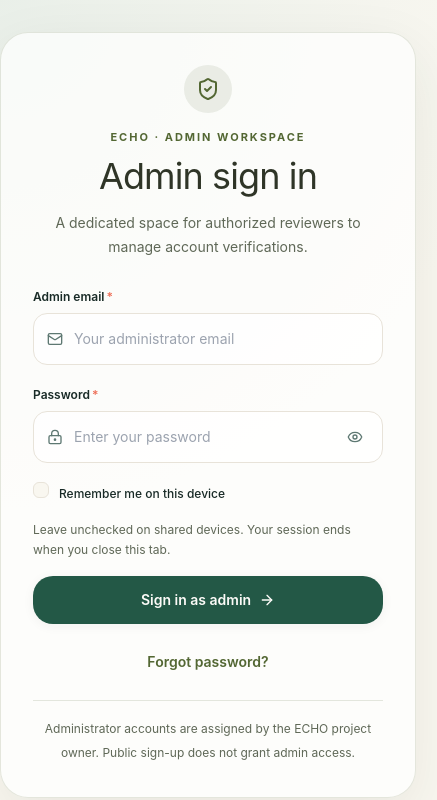
Dedicated admin sign in › checks backend permission before redirecting, without trusting a role from login
This screenshot has width=437, height=800.
Type "reviewer@example.invalid" into the field labelled "Admin email*" at x=208, y=338, box x1=33 y1=312 x2=383 y2=364
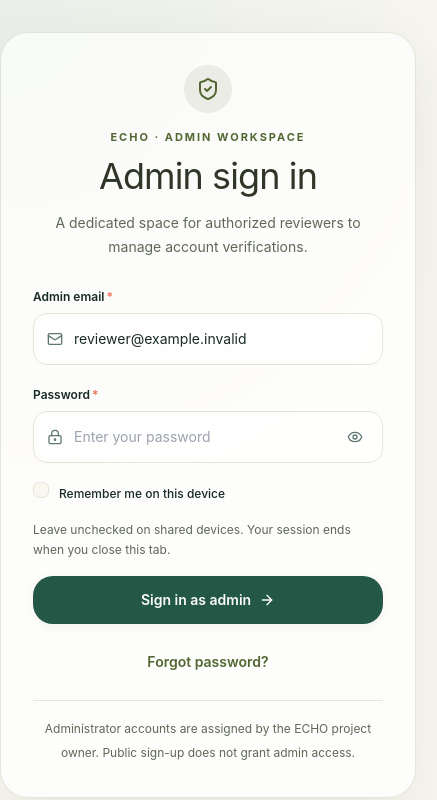
Type "test-only-password" into the password field labelled "Password*" at x=208, y=436, box x1=33 y1=410 x2=383 y2=462
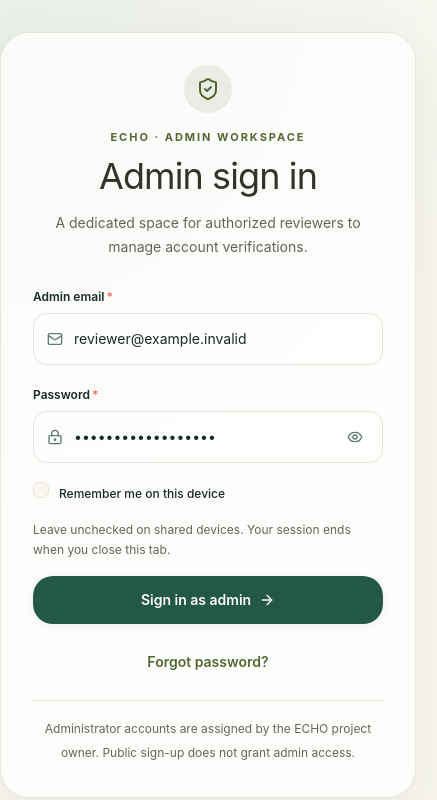
Click the button "Sign in as admin" at x=208, y=600, box x1=33 y1=576 x2=383 y2=624
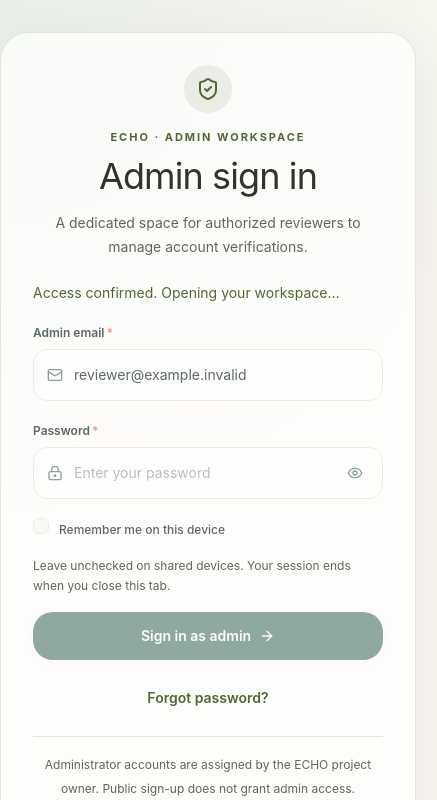
Expected: the field labelled "Admin email*" is disabled, x1=33 y1=348 x2=383 y2=400
Now the button named "Checking access…" is disabled, box x1=33 y1=612 x2=383 y2=660
Now the password field labelled "Password*" is empty, box x1=33 y1=446 x2=383 y2=498
